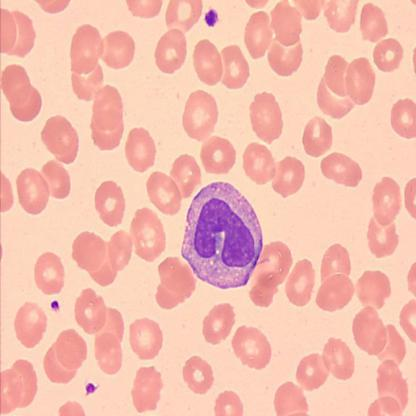Monocyte: (179, 179, 265, 290)
